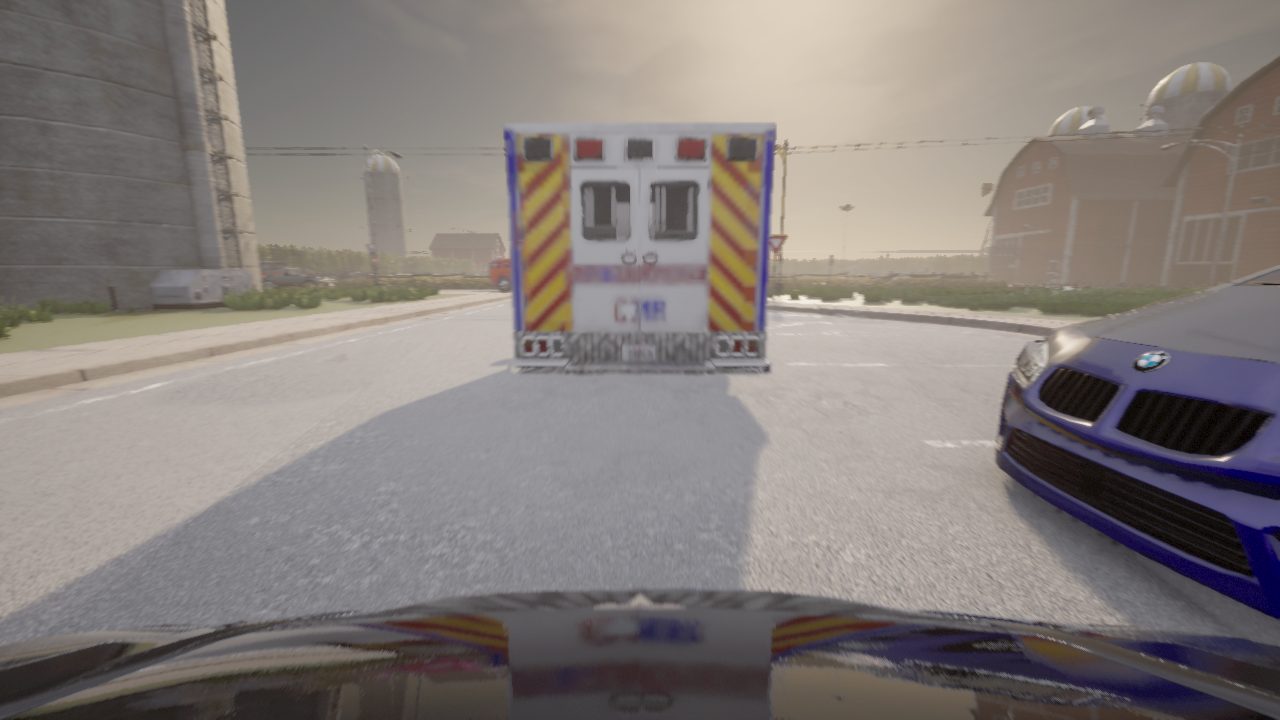cyclist: (0, 588, 1279, 719), (995, 265, 1279, 619), (504, 123, 775, 374), (489, 258, 511, 290), (259, 263, 289, 279)
